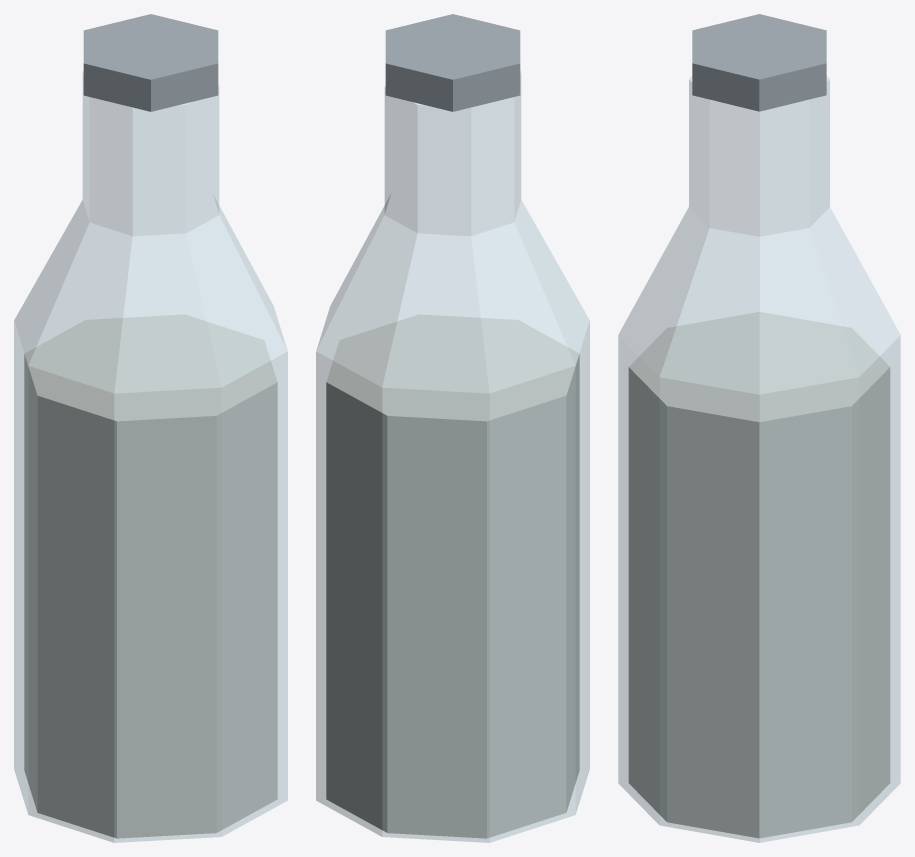
Rendered from FD_MilkBottle_01.glb.
The picture shows the model from 3 angles, left to right: view 1: azimuth 30°, elevation 25°; view 2: azimuth 150°, elevation 25°; view 3: azimuth 270°, elevation 25°; orthographic projection.
Parts seen in each view (by area): view 1: FD_MilkBottle_01; view 2: FD_MilkBottle_01; view 3: FD_MilkBottle_01.
Part boxes in pixels (<box>): FD_MilkBottle_01: <box>14,14,287,842</box>; FD_MilkBottle_01: <box>316,14,589,842</box>; FD_MilkBottle_01: <box>618,14,900,842</box>.
Size of the model in its own units: 0.08 by 0.23 by 0.08.
Materials: 2 (2 with a texture image).
